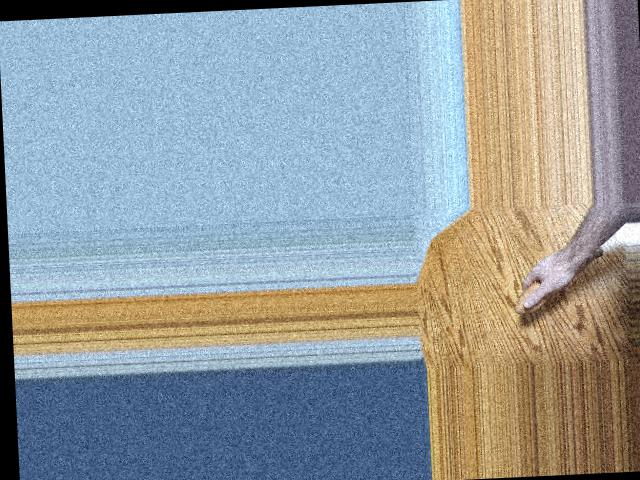sweet_potato: (510, 248, 604, 315)
